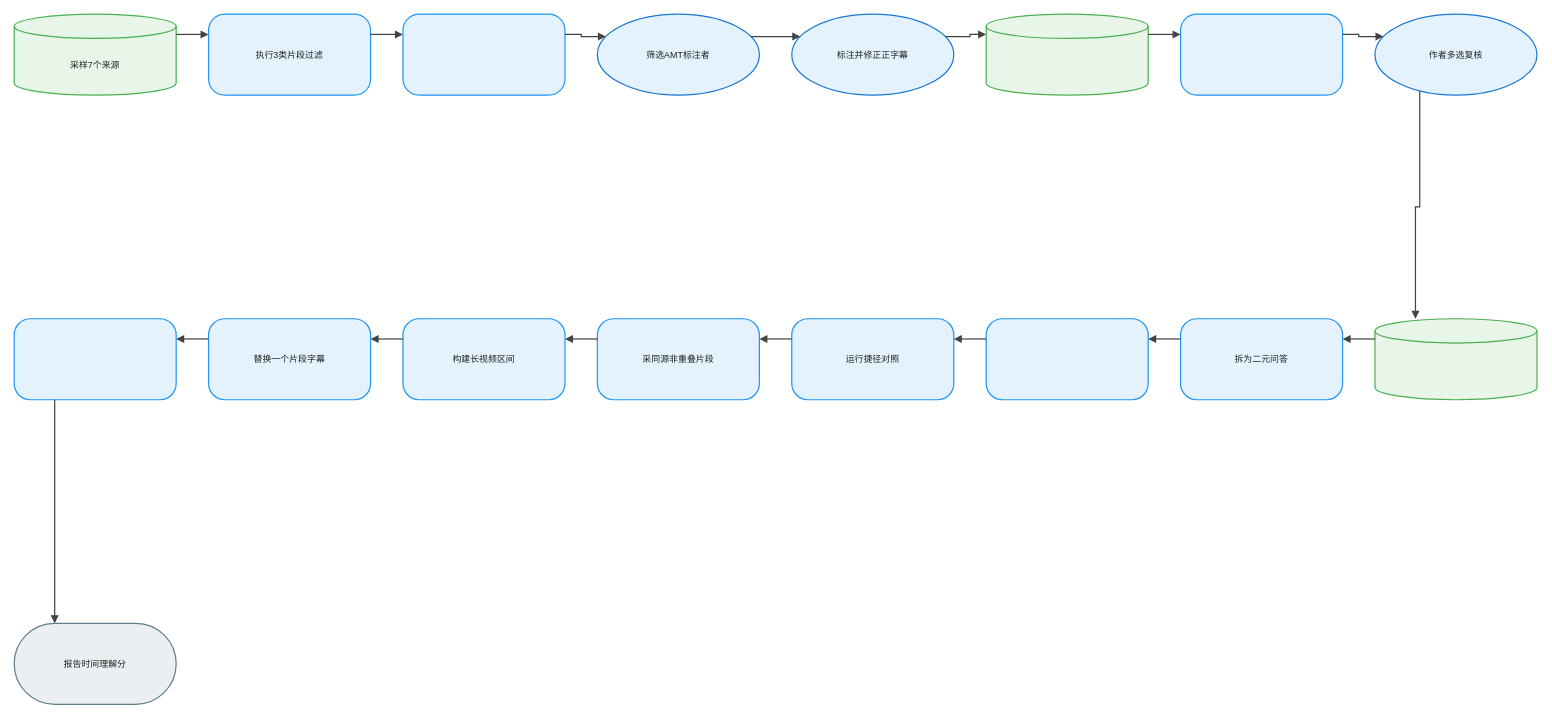
Some shapes in this 1552 by 719 pixel diagram are drawn without their labels. The box of each missing label's shape, as (x1, y1, x2, y2) in pixels:
3个LLM生成负例: (1180, 13, 1343, 95)
冻结2000与10000: (1374, 318, 1537, 400)
复用FineGym: (985, 13, 1148, 95)
短视频BA与MBA: (985, 318, 1148, 400)
移除音频: (402, 13, 565, 95)
评测1574段长视频: (13, 318, 176, 400)
